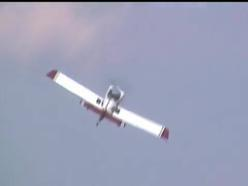aircraft: (46, 68, 170, 144)
